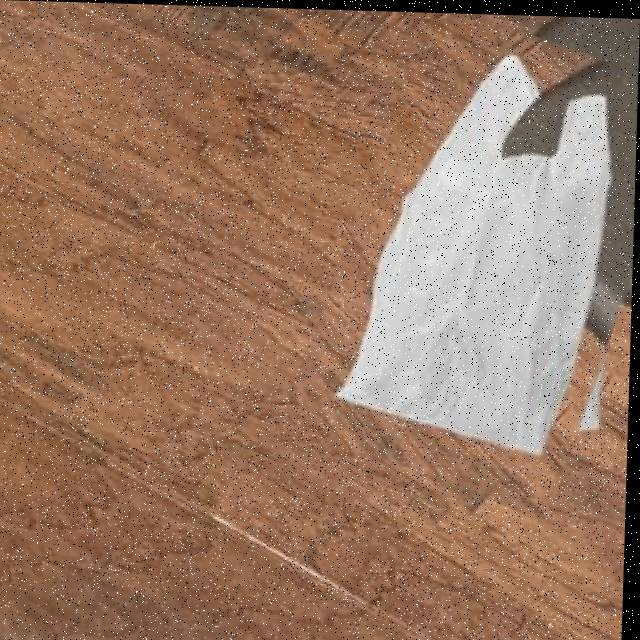plasticcover: (311, 13, 640, 502)
